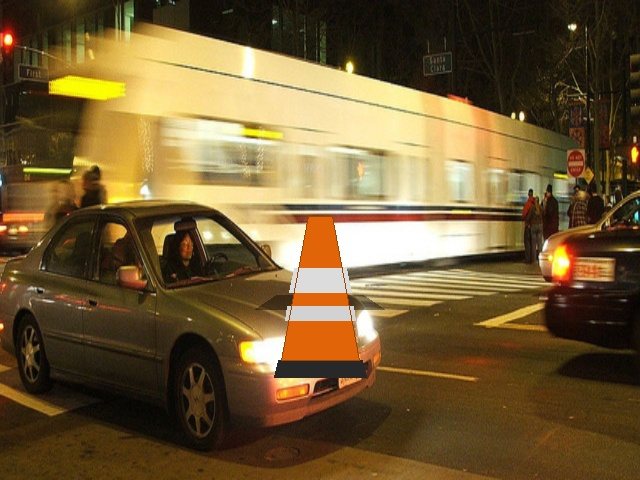traffic-cone: (274, 216, 366, 377)
